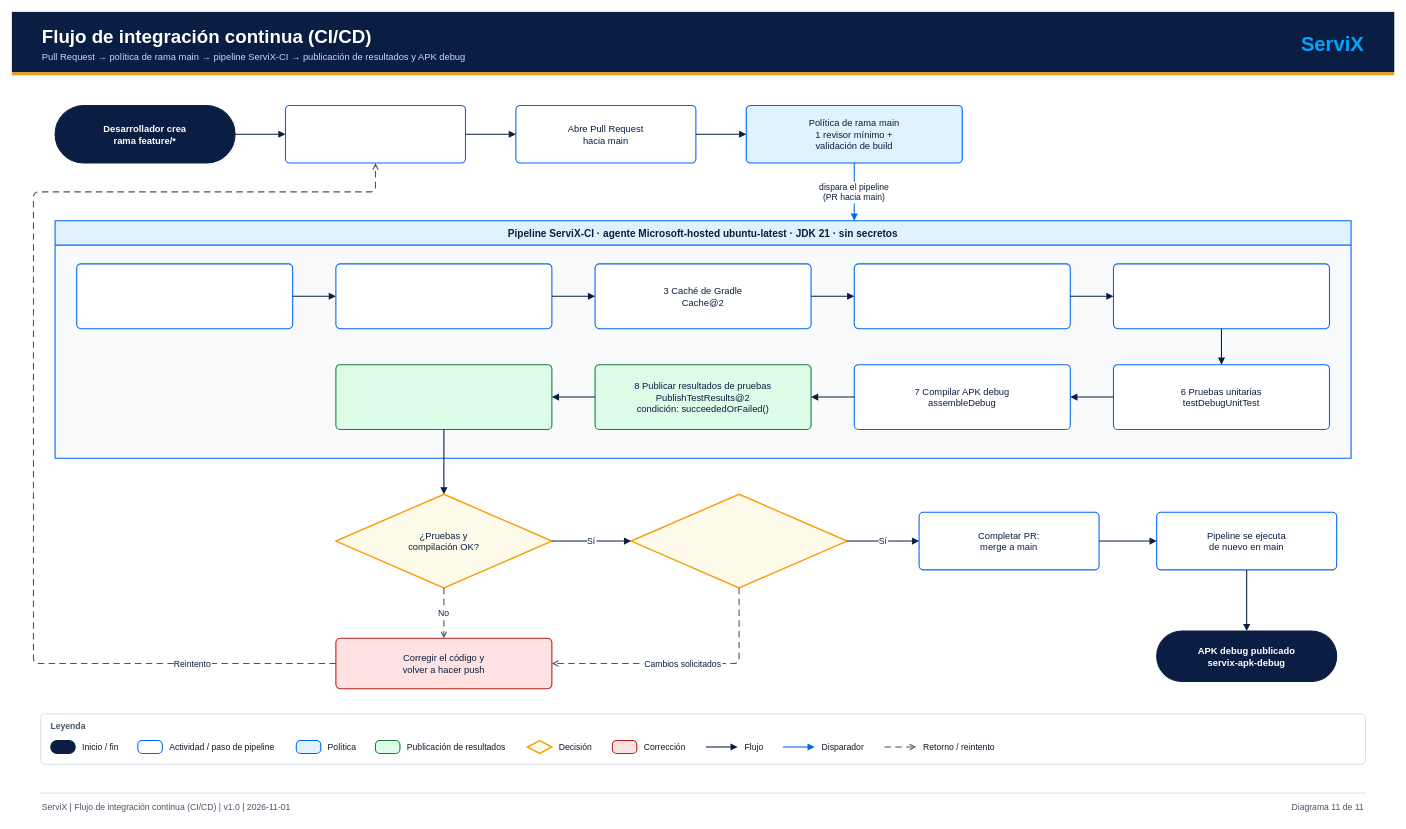
Image size: 1406x829. Some labels were removed from this diagram. The centre of each missing label's shape, as x and y in pixels:
"1 Configurar JDK 21 JavaToolInstaller@0" belongs at [184,296].
"2 Configurar Android SDK platforms;android-36.1" belongs at [443,296].
"4 Permisos de gradlew chmod +x ./gradlew" belongs at [961,296].
"5 Resolver dependencias :app:dependencies" belongs at [1221,296].
"9 Publicar APK PublishBuildArtifacts@1 artefacto servix-apk-debug" belongs at [443,397].
"Commit y push al repositorio" belongs at [375,134].
"¿Aprobado por el revisor?" belongs at [738,540].
